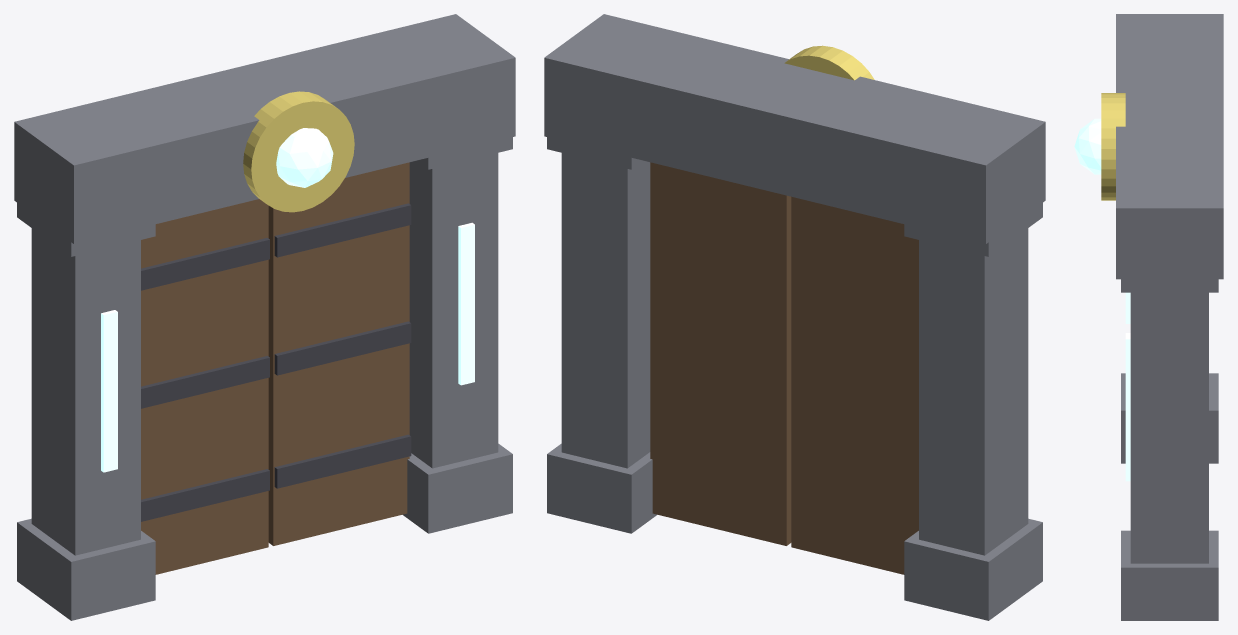
The model's file is Puerta_Mazmorra_Runic.fbx.
3 renders of one model, left to right at view 1: azimuth 30°, elevation 25°; view 2: azimuth 150°, elevation 25°; view 3: azimuth 270°, elevation 25°, orthographic. The views are drawn at different scales.
Parts seen in each view (by area): view 1: Cube.008, Door_Leaf_Right, Door_Leaf_Left, Cube.001, Cube.005, Cube, Cylinder, Cube.004, Cube.003, Cube.012, Cube.014, Cube.013 (+7 smaller); view 2: Cube.008, Door_Leaf_Right, Door_Leaf_Left, Cube.001, Cube.005, Cube, Cube.004, Cube.003, Cylinder, Cube.007; view 3: Cube.008, Cube.005, Cube.004, Cube.007, Cylinder, Cube, Icosphere, Cube.006.
Part boxes in pixels (<box>): Cube.008: <box>14,14,515,243</box>; Door_Leaf_Right: <box>268,162,409,545</box>; Door_Leaf_Left: <box>141,199,268,574</box>; Cube.001: <box>31,228,140,555</box>; Cube.005: <box>409,153,498,468</box>; Cube: <box>17,518,155,620</box>; Cylinder: <box>243,91,354,212</box>; Cube.004: <box>402,443,512,533</box>; Cube.003: <box>17,178,155,256</box>; Cube.012: <box>274,434,411,488</box>; Cube.014: <box>274,203,411,257</box>; Cube.013: <box>274,321,411,375</box>; Cube.008: <box>544,14,1045,243</box>; Door_Leaf_Right: <box>650,162,791,545</box>; Door_Leaf_Left: <box>791,196,918,574</box>; Cube.001: <box>919,228,1028,555</box>; Cube.005: <box>561,153,650,468</box>; Cube: <box>904,518,1042,620</box>; Cube.004: <box>547,443,657,533</box>; Cube.003: <box>904,178,1042,256</box>; Cylinder: <box>784,45,874,80</box>; Cube.007: <box>547,137,643,169</box>; Cube.008: <box>1116,14,1223,279</box>; Cube.005: <box>1130,292,1208,563</box>; Cube.004: <box>1121,530,1218,620</box>; Cube.007: <box>1121,257,1218,292</box>; Cylinder: <box>1101,93,1125,200</box>; Cube: <box>1121,373,1218,463</box>; Icosphere: <box>1074,118,1101,174</box>; Cube.006: <box>1125,333,1130,481</box>.
Size of the model in its own units: 940 by 960 by 305.
